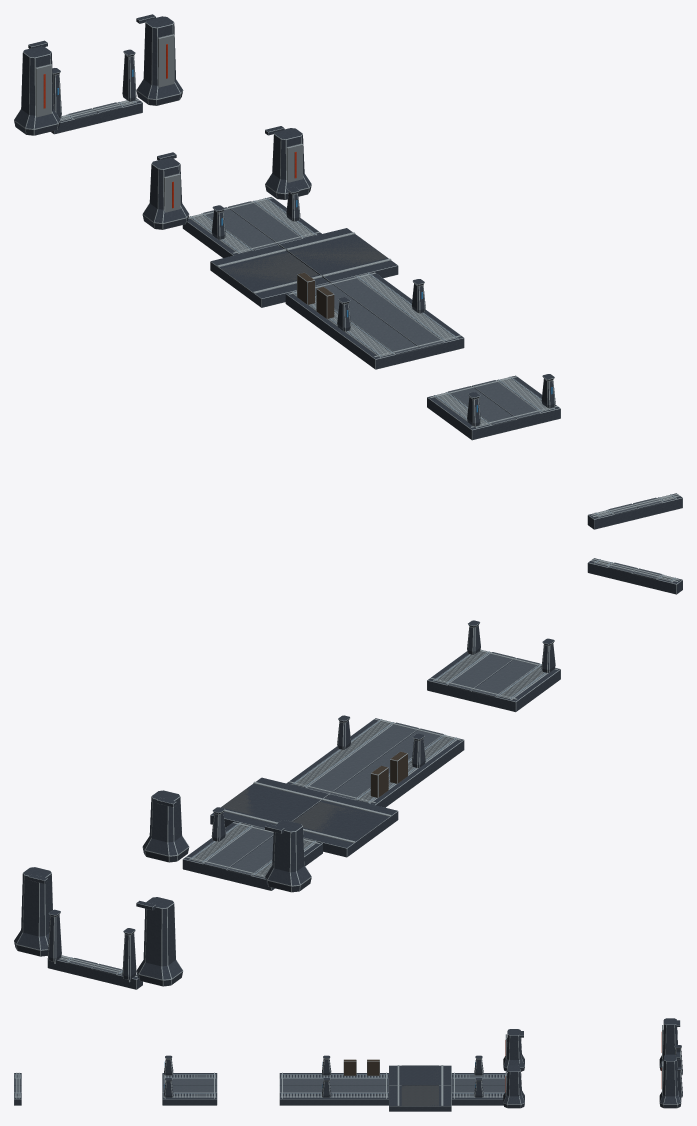
File: ChapterServiceNetwork.fbx
3 views of the same model, one above another, from view 1: azimuth 30°, elevation 25°; view 2: azimuth 150°, elevation 25°; view 3: azimuth 270°, elevation 25° (orthographic). The views are drawn at different scales.
Parts seen in each view (by area): view 1: CH_ChapterServiceNetwork_spine_floor_0_5, CH_ChapterServiceNetwork_spine_floor_-1_8, CH_ChapterServiceNetwork_spine_floor_0_8, CH_ChapterServiceNetwork_spine_floor_0_0, CH_ChapterServiceNetwork_spine_floor_0_10, CH_ChapterServiceNetwork_gate_architecture_0_16, CH_ChapterServiceNetwork_gate_architecture_-1_16, CH_ChapterServiceNetwork_spine_floor_-1_5, CH_ChapterServiceNetwork_gate_architecture_-1_11, CH_ChapterServiceNetwork_gate_architecture_0_11, CH_ChapterServiceNetwork_spine_floor_0_-5, CH_ChapterServiceNetwork_spine_floor_-1_10 (+5 smaller); view 2: CH_ChapterServiceNetwork_spine_floor_0_5, CH_ChapterServiceNetwork_spine_floor_-1_8, CH_ChapterServiceNetwork_spine_floor_0_0, CH_ChapterServiceNetwork_spine_floor_0_10, CH_ChapterServiceNetwork_spine_floor_0_8, CH_ChapterServiceNetwork_gate_architecture_-1_16, CH_ChapterServiceNetwork_gate_architecture_0_16, CH_ChapterServiceNetwork_gate_architecture_-1_11, CH_ChapterServiceNetwork_gate_architecture_0_11, CH_ChapterServiceNetwork_spine_floor_-1_5, CH_ChapterServiceNetwork_spine_floor_-1_0, CH_ChapterServiceNetwork_spine_floor_0_-5 (+4 smaller); view 3: CH_ChapterServiceNetwork_spine_floor_0_5, CH_ChapterServiceNetwork_spine_floor_0_8, CH_ChapterServiceNetwork_spine_floor_-1_8, CH_ChapterServiceNetwork_spine_floor_0_0, CH_ChapterServiceNetwork_spine_floor_0_10, CH_ChapterServiceNetwork_spine_floor_-1_5, CH_ChapterServiceNetwork_gate_architecture_0_16, CH_ChapterServiceNetwork_gate_architecture_0_11, CH_ChapterServiceNetwork_gate_architecture_-1_11, CH_ChapterServiceNetwork_gate_architecture_-1_16, CH_ChapterServiceNetwork_spine_floor_-1_0, CH_ChapterServiceNetwork_spine_floor_-1_10 (+7 smaller).
Part boxes in pixels (x1,y1,x2,y2): CH_ChapterServiceNetwork_spine_floor_0_5: (285,272,464,369); CH_ChapterServiceNetwork_spine_floor_-1_8: (210,245,328,307); CH_ChapterServiceNetwork_spine_floor_0_8: (279,228,398,282); CH_ChapterServiceNetwork_spine_floor_0_0: (427,375,560,440); CH_ChapterServiceNetwork_spine_floor_0_10: (182,197,321,257); CH_ChapterServiceNetwork_gate_architecture_0_16: (136,14,183,105); CH_ChapterServiceNetwork_gate_architecture_-1_16: (14,40,60,135); CH_ChapterServiceNetwork_spine_floor_-1_5: (291,282,419,357); CH_ChapterServiceNetwork_gate_architecture_-1_11: (142,152,189,229); CH_ChapterServiceNetwork_gate_architecture_0_11: (265,126,311,199); CH_ChapterServiceNetwork_spine_floor_0_-5: (587,493,682,529); CH_ChapterServiceNetwork_spine_floor_-1_10: (188,207,277,253); CH_ChapterServiceNetwork_spine_floor_0_5: (286,718,464,807); CH_ChapterServiceNetwork_spine_floor_-1_8: (293,794,398,857); CH_ChapterServiceNetwork_spine_floor_0_0: (427,649,560,712); CH_ChapterServiceNetwork_spine_floor_0_10: (182,821,322,890); CH_ChapterServiceNetwork_spine_floor_0_8: (210,777,329,828); CH_ChapterServiceNetwork_gate_architecture_-1_16: (136,897,183,986); CH_ChapterServiceNetwork_gate_architecture_0_16: (14,867,52,956); CH_ChapterServiceNetwork_gate_architecture_-1_11: (265,820,311,892); CH_ChapterServiceNetwork_gate_architecture_0_11: (142,790,189,862); CH_ChapterServiceNetwork_spine_floor_-1_5: (331,728,458,803); CH_ChapterServiceNetwork_spine_floor_-1_0: (472,658,548,699); CH_ChapterServiceNetwork_spine_floor_0_-5: (587,558,682,594); CH_ChapterServiceNetwork_spine_floor_0_5: (279,1073,388,1105); CH_ChapterServiceNetwork_spine_floor_0_8: (389,1085,451,1111); CH_ChapterServiceNetwork_spine_floor_-1_8: (389,1065,451,1085); CH_ChapterServiceNetwork_spine_floor_0_0: (162,1073,217,1105); CH_ChapterServiceNetwork_spine_floor_0_10: (451,1073,507,1105); CH_ChapterServiceNetwork_spine_floor_-1_5: (279,1074,388,1085); CH_ChapterServiceNetwork_gate_architecture_0_16: (659,1052,681,1108); CH_ChapterServiceNetwork_gate_architecture_0_11: (503,1063,524,1108); CH_ChapterServiceNetwork_gate_architecture_-1_11: (503,1029,524,1071); CH_ChapterServiceNetwork_gate_architecture_-1_16: (659,1018,680,1070); CH_ChapterServiceNetwork_spine_floor_-1_0: (162,1074,217,1085); CH_ChapterServiceNetwork_spine_floor_-1_10: (451,1074,505,1085).
Bounding box in the file's own units: 14.19 × 7.6 × 85.6.
